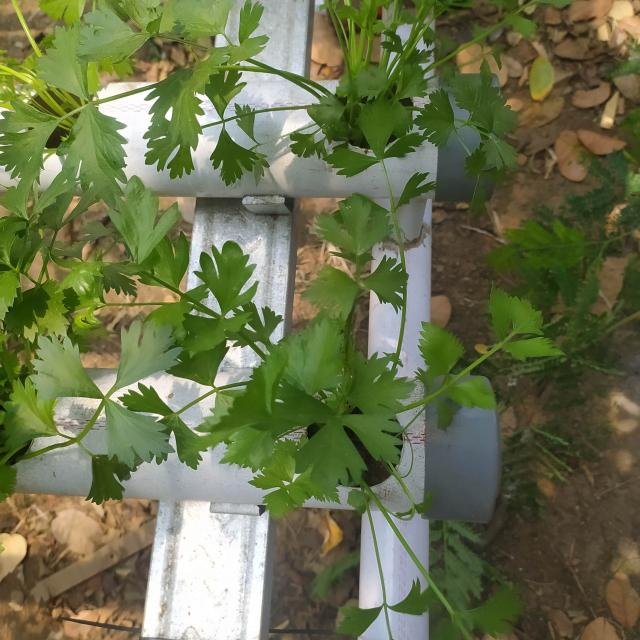Wet Waste: (192, 193, 591, 566), (11, 93, 171, 353)
